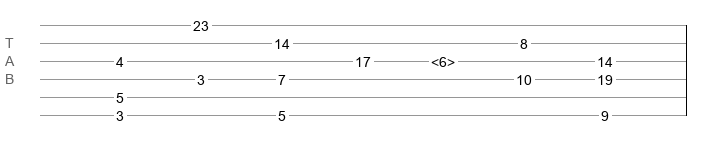10: (516, 72, 532, 82)
14: (274, 36, 290, 46), (597, 54, 613, 64)
17: (355, 54, 371, 64)
19: (597, 72, 613, 82)
23: (193, 18, 209, 28)
3: (116, 108, 124, 118), (197, 72, 205, 82)
4: (116, 54, 124, 64)
5: (116, 90, 124, 100), (278, 108, 286, 118)
7: (278, 72, 286, 82)
8: (520, 36, 528, 46)
9: (601, 108, 609, 118)
harmonic: (431, 54, 455, 64)
